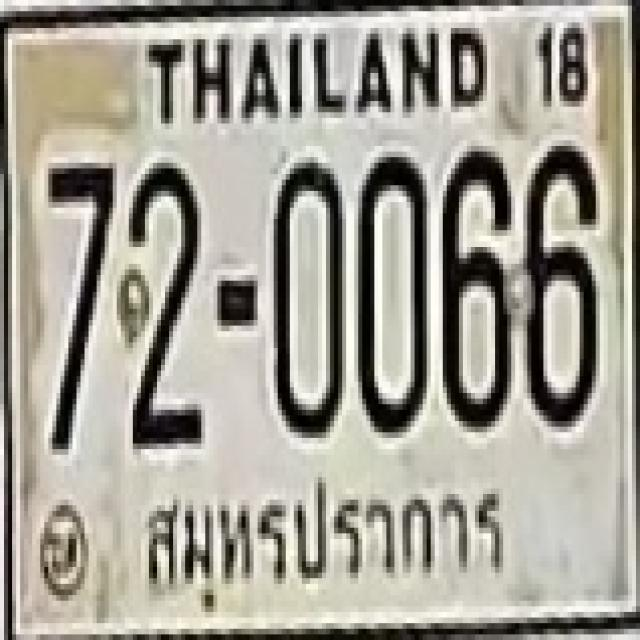0: (354, 152, 427, 432), (270, 160, 342, 435)
2: (115, 154, 199, 435)
6: (521, 140, 594, 421), (439, 149, 507, 424)
7: (44, 157, 113, 444)
SPK: (131, 472, 511, 608)
